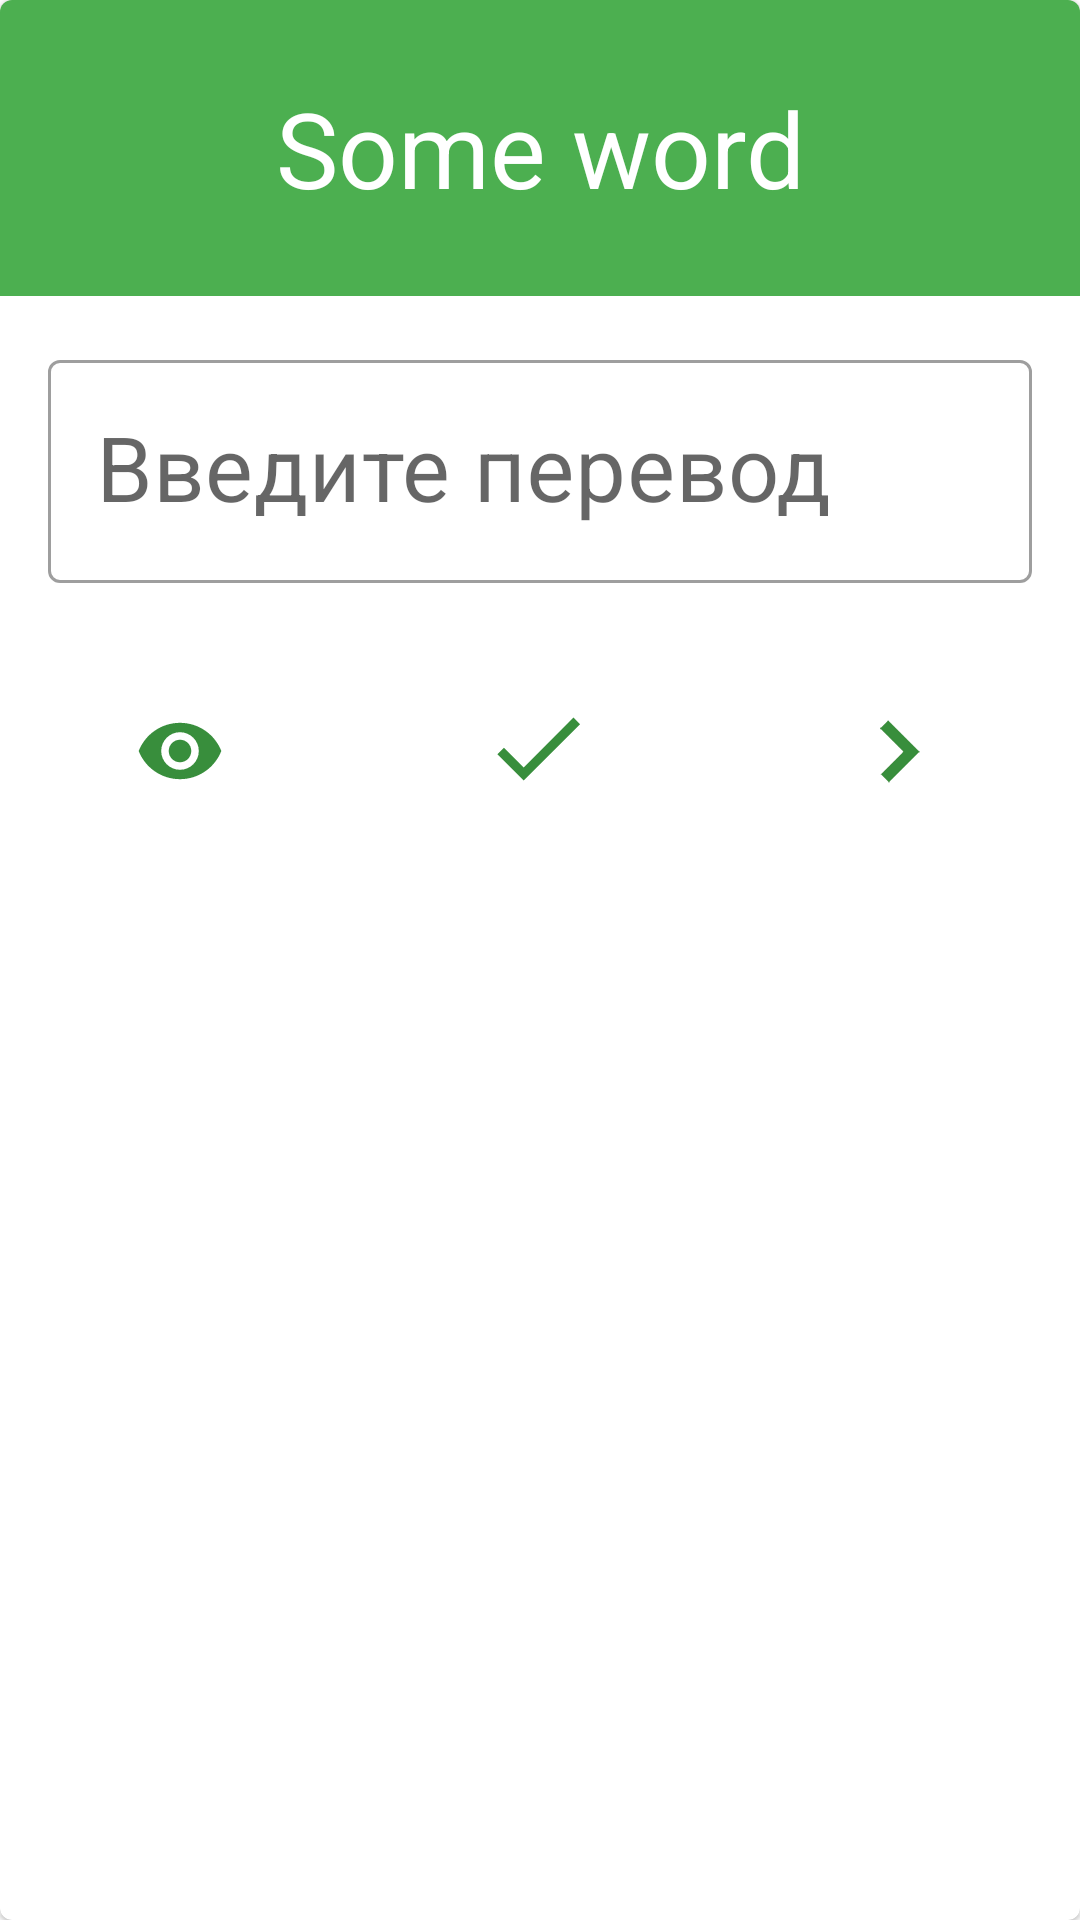

Screen size 1080 x 1920. Icon name, then its center in pixels as point (x, y):
done: point (538, 749)
next: point (900, 751)
visible: point (180, 751)
